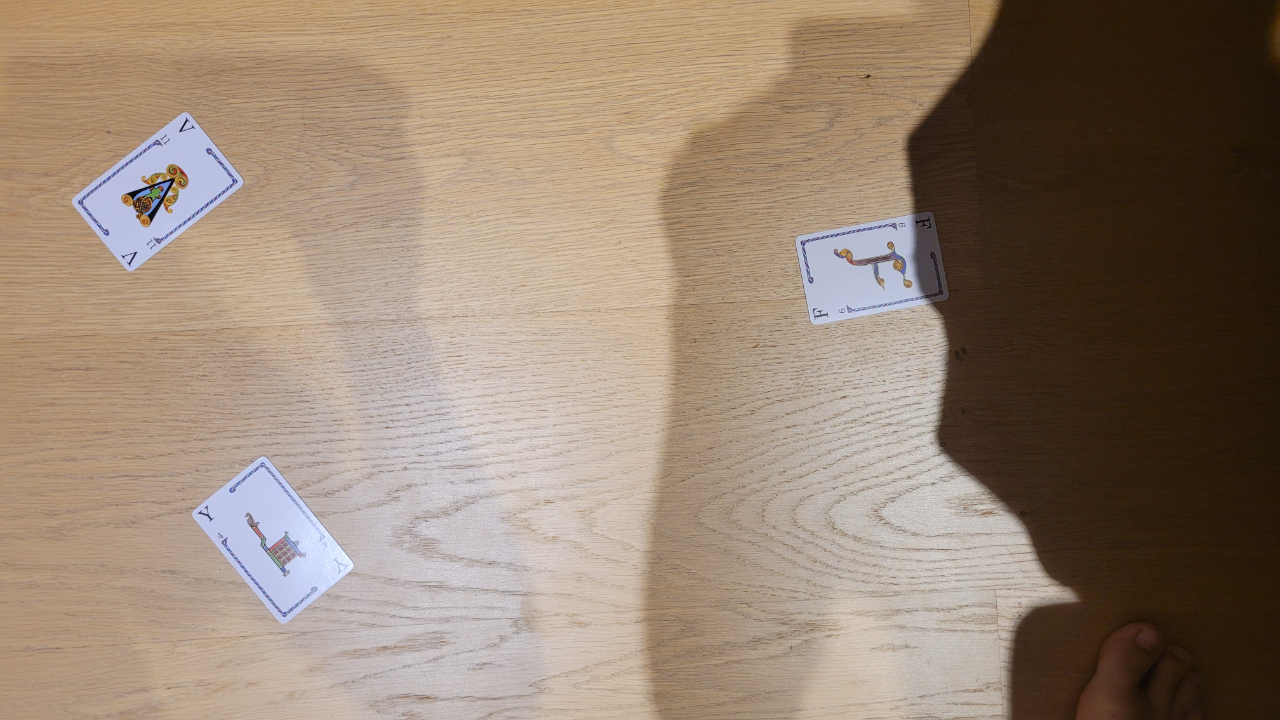quiddler_card: (69, 102, 249, 275), (186, 453, 357, 628), (789, 204, 962, 328)
